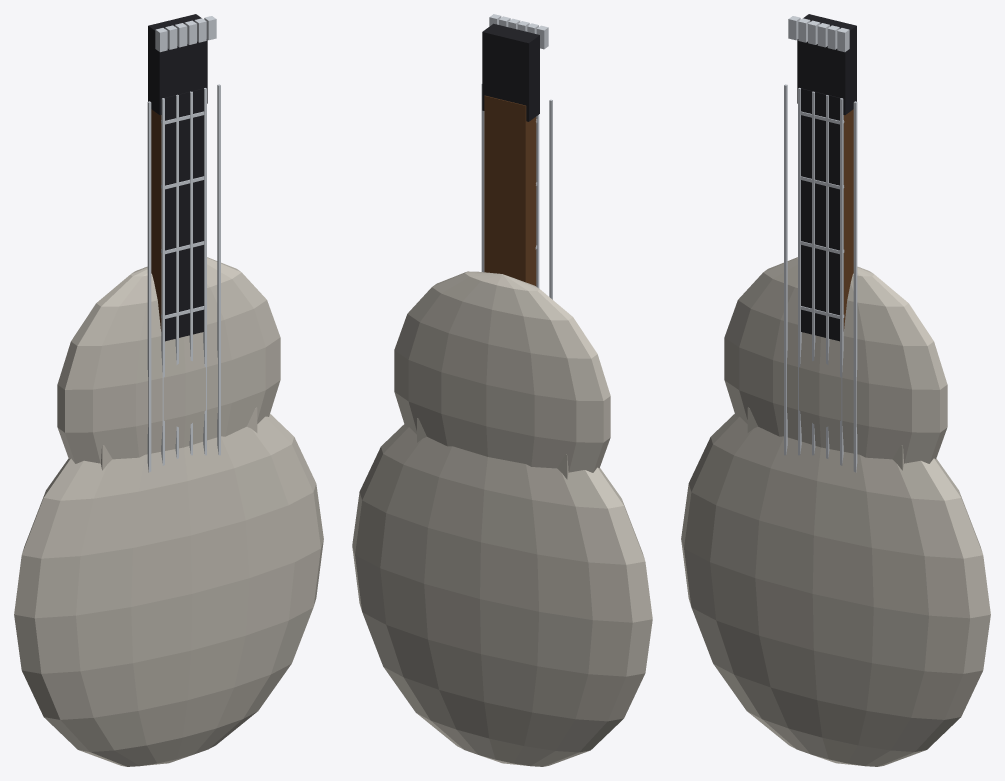
Rendered from guitar.glb.
The picture shows the model from 3 angles, left to right: view 1: azimuth 30°, elevation 25°; view 2: azimuth 150°, elevation 25°; view 3: azimuth 330°, elevation 25°; orthographic projection. The views are drawn at different scales.
Visible parts, largest first — view 1: guitar; view 2: guitar; view 3: guitar.
Part boxes in pixels (x1,y1,x2,y2): guitar: (14, 14, 323, 766); guitar: (352, 14, 652, 766); guitar: (681, 14, 990, 766).
Size of the model in its own units: 0.4 by 0.927 by 0.104.
